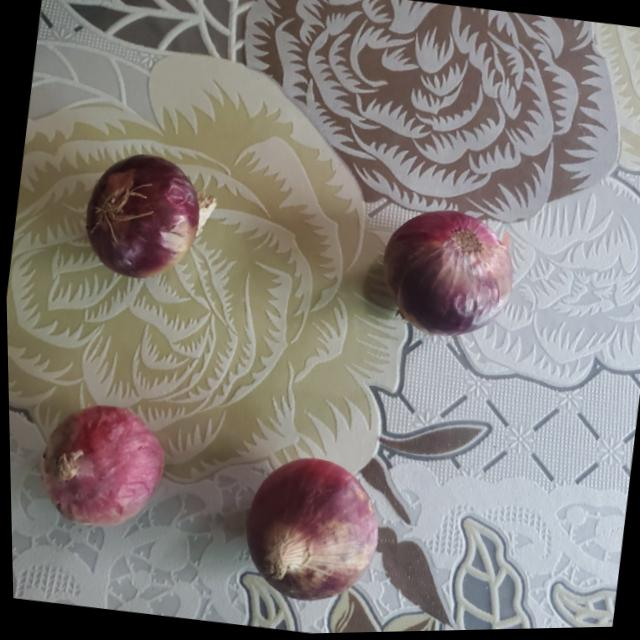onion: (234, 447, 386, 604), (372, 203, 520, 342), (33, 398, 171, 535), (77, 145, 209, 285)
